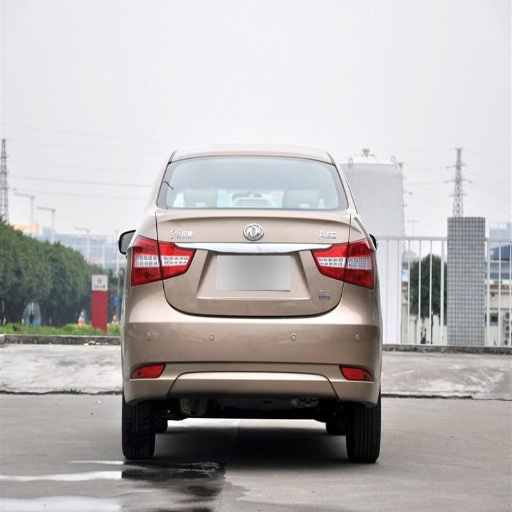back_bumper: (124, 282, 380, 417)
tailgate: (156, 208, 346, 317)
